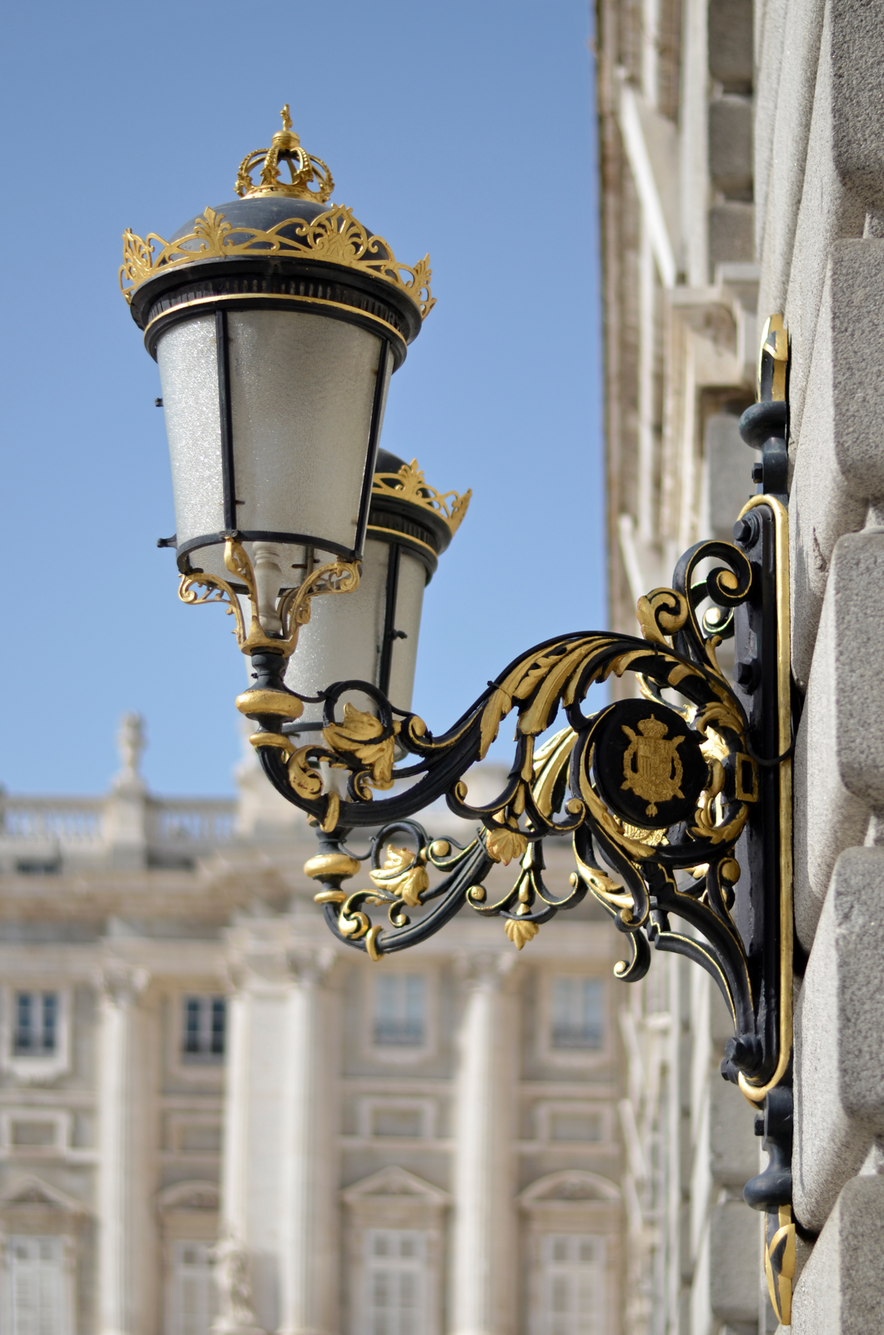fachada: (8, 788, 746, 1335), (588, 4, 884, 1335)
poste: (129, 117, 834, 1197)
